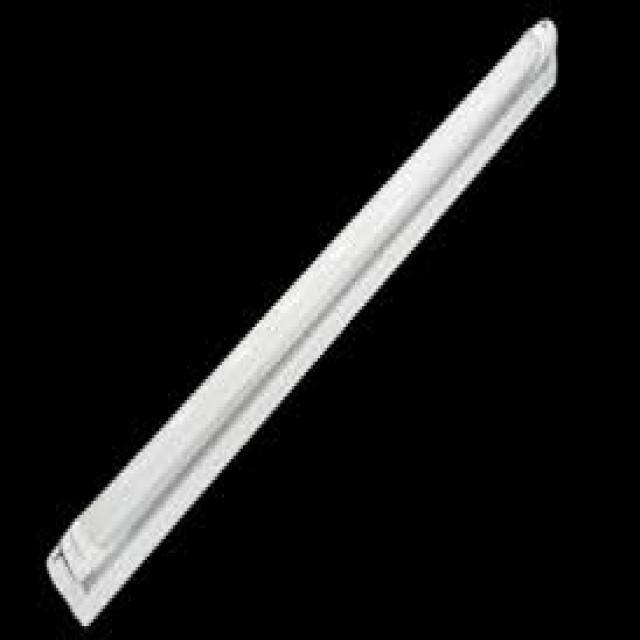tubelight_off: (37, 15, 562, 631)
